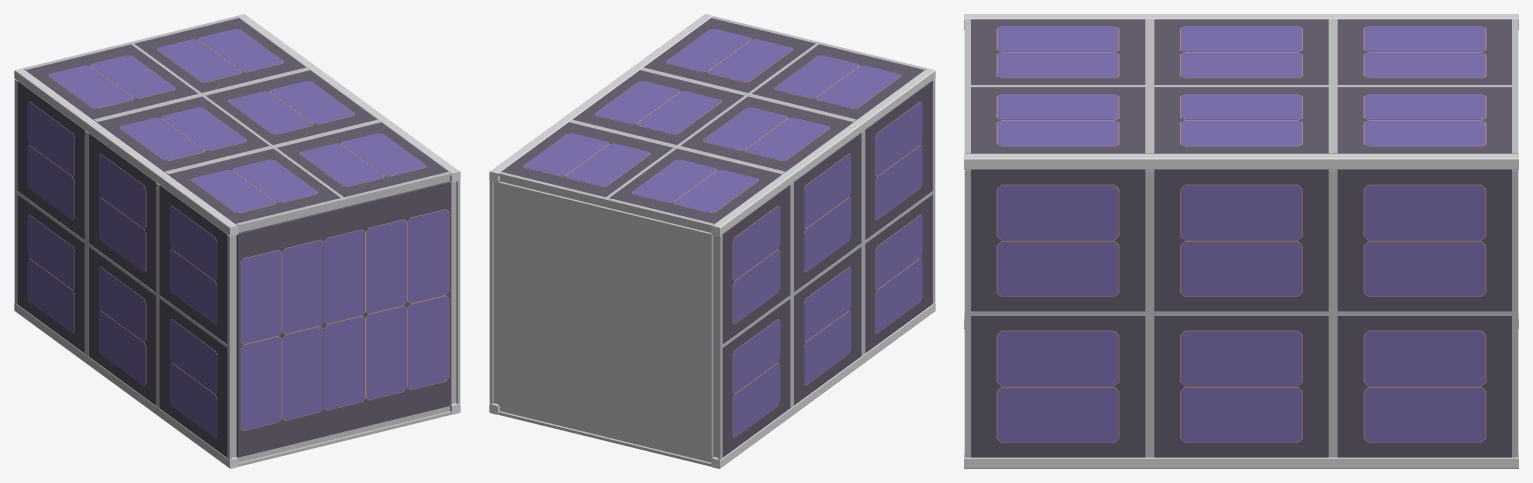
Rendered from CDS_12U_nasa_style.glb.
3 renders of one model, left to right at view 1: azimuth 30°, elevation 25°; view 2: azimuth 150°, elevation 25°; view 3: azimuth 270°, elevation 25°, orthographic. The views are drawn at different scales.
Parts seen in each view (by area): view 1: solar_panel_pZ_cells, solar_panel_pZ_substrate, structure_body, structure_band_mX, structure_band_pY, solar_panel_mX_z1_x1_cells, solar_panel_mX_z1_x2_cells, solar_panel_mX_z2_x1_cells, solar_panel_mX_z2_x2_cells, solar_panel_mX_z3_x2_cells, solar_panel_mX_z3_x1_cells, solar_panel_pY_z1_x2_cells (+23 smaller); view 2: structure_endplate_mZ, structure_band_mX, structure_body, structure_band_pY, solar_panel_mX_z3_x1_cells, solar_panel_mX_z3_x2_cells, solar_panel_mX_z1_x2_cells, solar_panel_mX_z2_x1_cells, solar_panel_mX_z2_x2_cells, solar_panel_mX_z1_x1_cells, solar_panel_pY_z1_x1_cells, solar_panel_pY_z3_x2_cells (+21 smaller); view 3: solar_panel_pX_z1_x2_cells, solar_panel_pX_z3_x2_cells, solar_panel_pX_z1_x1_cells, solar_panel_pX_z3_x1_cells, solar_panel_pX_z2_x1_cells, solar_panel_pX_z2_x2_cells, structure_band_pX, solar_panel_pX_z2_x2_substrate, solar_panel_pX_z1_x2_substrate, solar_panel_pX_z3_x2_substrate, solar_panel_pX_z2_x1_substrate, solar_panel_pX_z1_x1_substrate (+23 smaller).
Boxes of the visible parts, bbox=[...] form: solar_panel_pZ_cells: bbox=[240, 209, 448, 430]; solar_panel_pZ_substrate: bbox=[236, 181, 451, 457]; structure_body: bbox=[232, 176, 456, 462]; structure_band_mX: bbox=[14, 79, 231, 459]; structure_band_pY: bbox=[23, 16, 451, 227]; solar_panel_mX_z1_x1_cells: bbox=[27, 101, 74, 219]; solar_panel_mX_z1_x2_cells: bbox=[27, 215, 74, 332]; solar_panel_mX_z2_x1_cells: bbox=[98, 154, 145, 271]; solar_panel_mX_z2_x2_cells: bbox=[98, 267, 145, 384]; solar_panel_mX_z3_x2_cells: bbox=[169, 319, 216, 437]; solar_panel_mX_z3_x1_cells: bbox=[169, 206, 216, 323]; solar_panel_pY_z1_x2_cells: bbox=[49, 55, 174, 108]; structure_endplate_mZ: bbox=[498, 181, 713, 457]; structure_band_mX: bbox=[718, 79, 935, 459]; structure_body: bbox=[493, 176, 717, 462]; structure_band_pY: bbox=[498, 16, 926, 227]; solar_panel_mX_z3_x1_cells: bbox=[875, 101, 922, 219]; solar_panel_mX_z3_x2_cells: bbox=[875, 215, 922, 332]; solar_panel_mX_z1_x2_cells: bbox=[733, 319, 780, 437]; solar_panel_mX_z2_x1_cells: bbox=[804, 154, 851, 271]; solar_panel_mX_z2_x2_cells: bbox=[804, 267, 851, 384]; solar_panel_mX_z1_x1_cells: bbox=[733, 206, 780, 323]; solar_panel_pY_z1_x1_cells: bbox=[524, 133, 649, 186]; solar_panel_pY_z3_x2_cells: bbox=[775, 55, 900, 108]; solar_panel_pX_z1_x2_cells: bbox=[1364, 185, 1485, 296]; solar_panel_pX_z3_x2_cells: bbox=[997, 185, 1118, 296]; solar_panel_pX_z1_x1_cells: bbox=[1364, 331, 1485, 442]; solar_panel_pX_z3_x1_cells: bbox=[997, 331, 1118, 442]; solar_panel_pX_z2_x1_cells: bbox=[1181, 331, 1301, 442]; solar_panel_pX_z2_x2_cells: bbox=[1181, 185, 1301, 296]; structure_band_pX: bbox=[964, 169, 1518, 457]; solar_panel_pX_z2_x2_substrate: bbox=[1154, 169, 1328, 311]; solar_panel_pX_z1_x2_substrate: bbox=[1337, 169, 1511, 311]; solar_panel_pX_z3_x2_substrate: bbox=[971, 169, 1145, 311]; solar_panel_pX_z2_x1_substrate: bbox=[1154, 316, 1328, 457]; solar_panel_pX_z1_x1_substrate: bbox=[1337, 316, 1511, 457].
Size of the model in its own units: 0.2263 by 0.2263 by 0.366.
